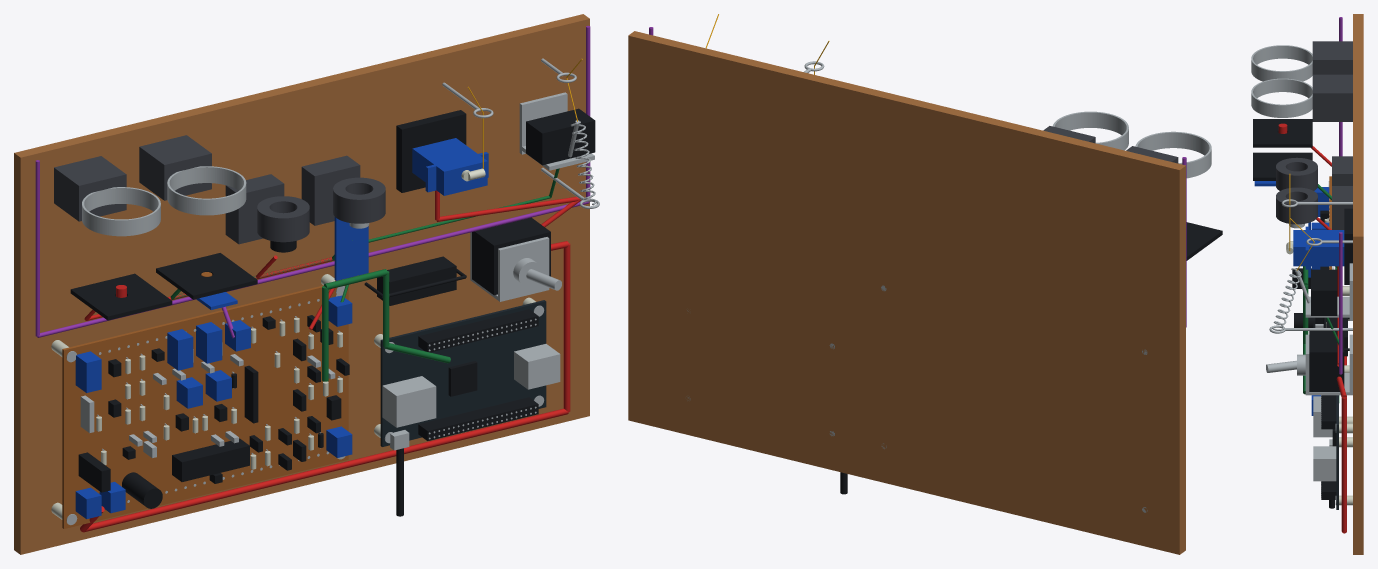
File: TRAMA3_A.obj
3 views of the same model, side by side, from view 1: azimuth 30°, elevation 25°; view 2: azimuth 150°, elevation 25°; view 3: azimuth 270°, elevation 25° (orthographic). The views are drawn at different scales.
Visible parts, largest first — view 1: A_MDF_300x200, A_Perfboard_150x90, A_BBB_PCB, A_Arnes_potencia, A_C0_BA_calce, A_C0_AB_calce, A_SW2_final_carrera, A_SG90_base, A_SG90_cuerpo, A_C0_BA_tapa, A_C0_BA_abrazadera, A_SW287_cuerpo (+30 smaller); view 2: A_MDF_300x200, A_C0_AB_abrazadera, A_C0_BA_abrazadera, A_C0_AB_tapa; view 3: A_MDF_300x200, A_C0_BA_calce, A_SW287_cuerpo, A_C0_BA_abrazadera, A_C0_AB_tapa, A_SG90_cuerpo, A_C0_AB_abrazadera, A_C0_AB_calce, A_C1_BA_manga, A_SW2_final_carrera, A_C1_AB_manga, A_Arnes_potencia (+26 smaller).
Part boxes in pixels (x1,y1,x2,y2): A_MDF_300x200: [14, 14, 589, 554]; A_Perfboard_150x90: [62, 285, 348, 528]; A_BBB_PCB: [380, 300, 546, 446]; A_Arnes_potencia: [80, 241, 570, 532]; A_C0_BA_calce: [139, 135, 211, 200]; A_C0_AB_calce: [54, 156, 126, 221]; A_SW2_final_carrera: [526, 108, 595, 165]; A_SG90_base: [396, 110, 466, 192]; A_SG90_cuerpo: [412, 138, 487, 195]; A_C0_BA_tapa: [156, 253, 257, 299]; A_C0_BA_abrazadera: [167, 166, 246, 215]; A_SW287_cuerpo: [472, 217, 550, 295]; A_MDF_300x200: [628, 31, 1185, 554]; A_C0_AB_abrazadera: [1135, 131, 1211, 178]; A_C0_BA_abrazadera: [1052, 111, 1128, 150]; A_C0_AB_tapa: [1186, 222, 1222, 260]; A_MDF_300x200: [1353, 14, 1363, 554]; A_C0_BA_calce: [1312, 74, 1352, 121]; A_SW287_cuerpo: [1309, 331, 1344, 391]; A_C0_BA_abrazadera: [1251, 78, 1312, 117]; A_C0_AB_tapa: [1253, 119, 1312, 147]; A_SG90_cuerpo: [1293, 230, 1344, 266]; A_C0_AB_abrazadera: [1251, 45, 1312, 81]; A_C0_AB_calce: [1312, 41, 1352, 74]; A_C1_BA_manga: [1276, 187, 1317, 224]; A_SW2_final_carrera: [1311, 269, 1337, 315]; A_C1_AB_manga: [1276, 157, 1317, 190]; A_Arnes_potencia: [1336, 356, 1346, 533].
Bounding box in the file's own units: 300 × 220 × 64.
